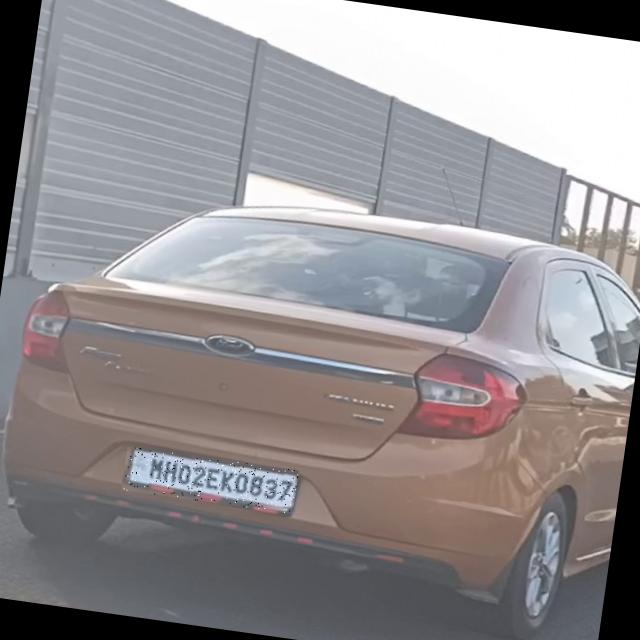Plate: (123, 448, 300, 516)
